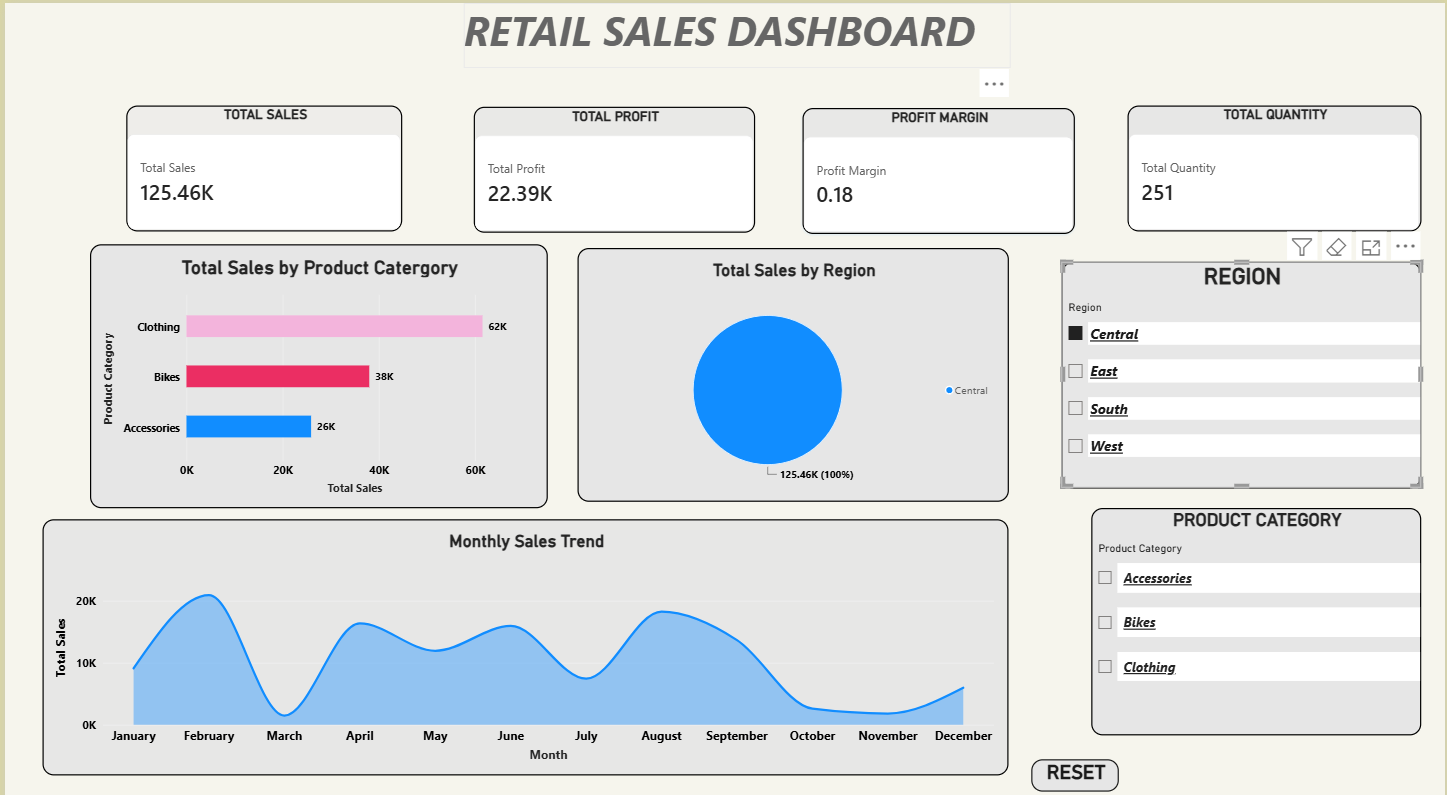

Layout of this report page (visuals, bound fields, positions):
{"tool":"powerbi","page":{"name":"Page 1","canvas":[1920,1080],"ordinal":0},"visuals":[{"type":"textbox","box":[612.2,0,727.3,87.2],"z":0},{"type":"cardVisual","title":"TOTAL SALES","fields":{"Data":["Sheet1.Total Sales"]},"box":[161.7,136.7,368.3,168.3],"z":1},{"type":"cardVisual","title":"TOTAL PROFIT","fields":{"Data":["Sheet1.Total Profit"]},"box":[625,138.3,375,168.3],"z":2},{"type":"cardVisual","title":"PROFIT MARGIN","fields":{"Data":["Sheet1.Profit Margin"]},"box":[1063.3,140,363.3,168.3],"z":3},{"type":"cardVisual","title":"TOTAL QUANTITY","fields":{"Data":["Sheet1.Total Quantity"]},"box":[1496.7,136.7,391.7,168.3],"z":4},{"type":"clusteredBarChart","title":"Total Sales by Product Catergory","fields":{"Category":["Sheet1.Product Category"],"Y":["Sheet1.Total Sales"]},"box":[113.3,321.7,610,351.7],"z":5},{"type":"pieChart","title":"Total Sales by Region","fields":{"Category":["Sheet1.Region"],"Y":["Sheet1.Total Sales"]},"box":[763.3,326.7,575,338.3],"z":6},{"type":"areaChart","title":"Monthly Sales Trend","fields":{"Category":["Sheet1.Order Date.Variation.Date Hierarchy.Month"],"Y":["Sheet1.Total Sales"]},"box":[50,688.3,1288.3,341.7],"z":7},{"type":"slicer","title":"PRODUCT CATEGORY","fields":{"Values":["Sheet1.Product Category"]},"box":[1448.3,673.3,440,303.3],"z":9},{"type":"actionButton","title":"RESET","box":[1368.3,1008.3,116.7,43.3],"z":10},{"type":"slicer","title":"REGION","fields":{"Values":["Sheet1.Region"]},"box":[1497,327,392,338],"z":11}]}

Visuals, with their boxes in screenshot pixels (x1, y1, x2, y2), scaled from the page's 1920x1080 canvas onto the 1447x795 screenshot:
textbox: 461 0 1010 64
"TOTAL SALES" cardVisual: 122 101 399 225
"TOTAL PROFIT" cardVisual: 471 102 754 226
"PROFIT MARGIN" cardVisual: 801 103 1075 227
"TOTAL QUANTITY" cardVisual: 1128 101 1423 225
"Total Sales by Product Catergory" clusteredBarChart: 85 237 545 496
"Total Sales by Region" pieChart: 575 240 1009 490
"Monthly Sales Trend" areaChart: 38 507 1009 758
"PRODUCT CATEGORY" slicer: 1092 496 1423 719
"RESET" actionButton: 1031 742 1119 774
"REGION" slicer: 1128 241 1424 490
